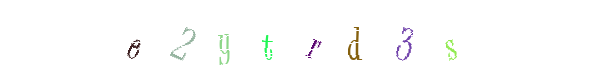2: (211, 0, 291, 80)
3: (311, 0, 391, 80)
D: (277, 0, 357, 80)
E: (164, 0, 244, 80)
R: (260, 0, 340, 80)
S: (348, 0, 428, 80)
T: (243, 0, 323, 80)
Y: (227, 0, 307, 80)
